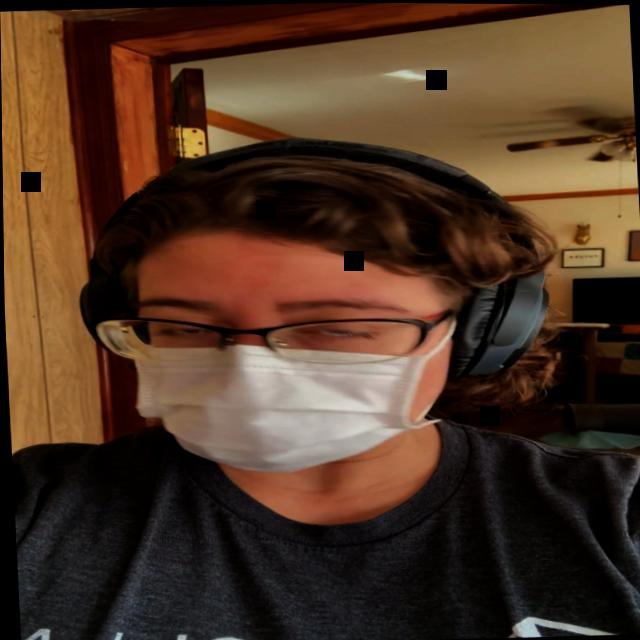Mask: (101, 216, 467, 478)
